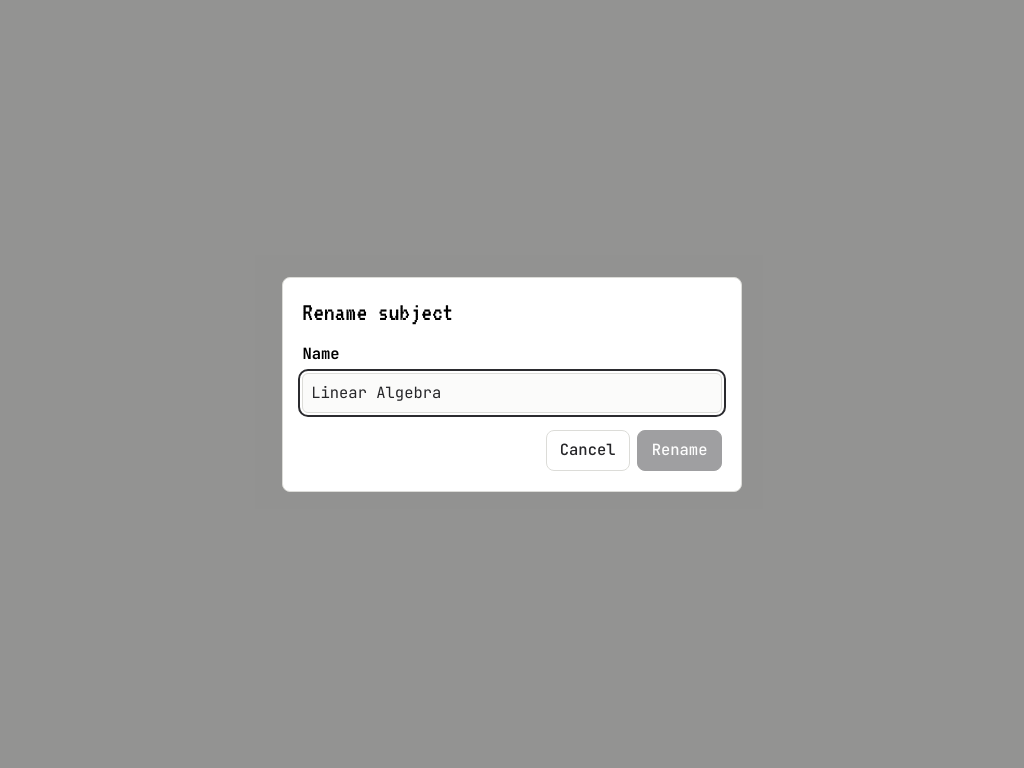
Scenario: PromptDialog › keeps the dialog open and shows the error when onSubmit rejects
Replace the text in the field labelled "Name" with "Other" at (512, 393), box 302,373 -> 722,413
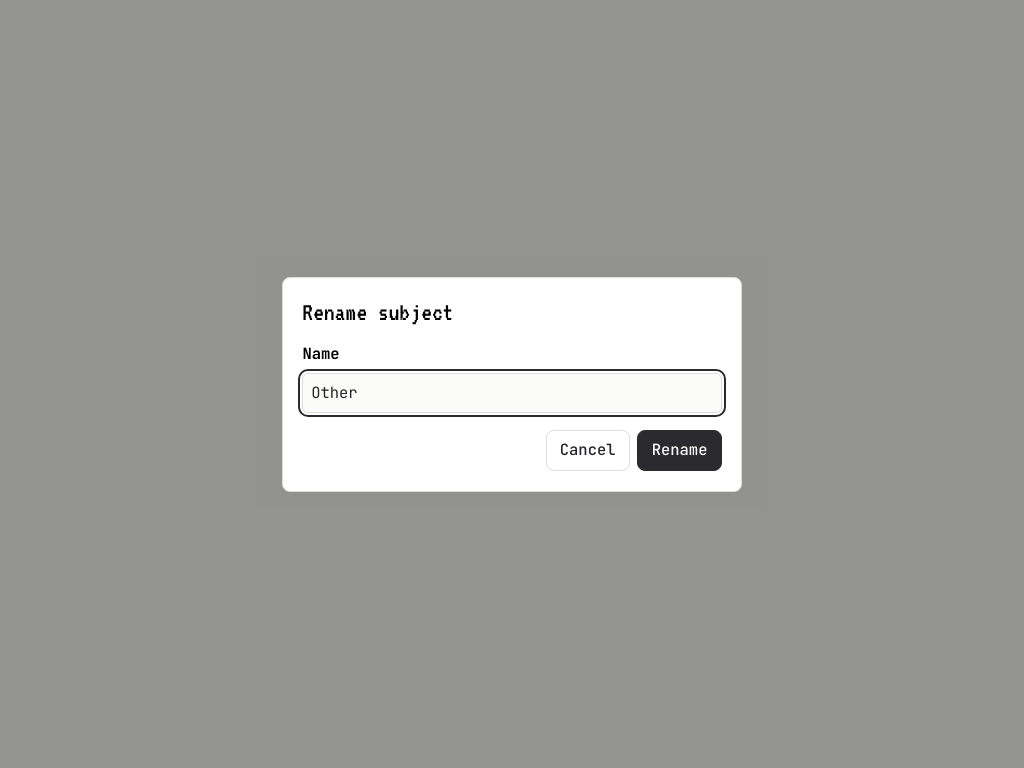
Click the button "Rename" at (680, 451), box 638,430 -> 722,471
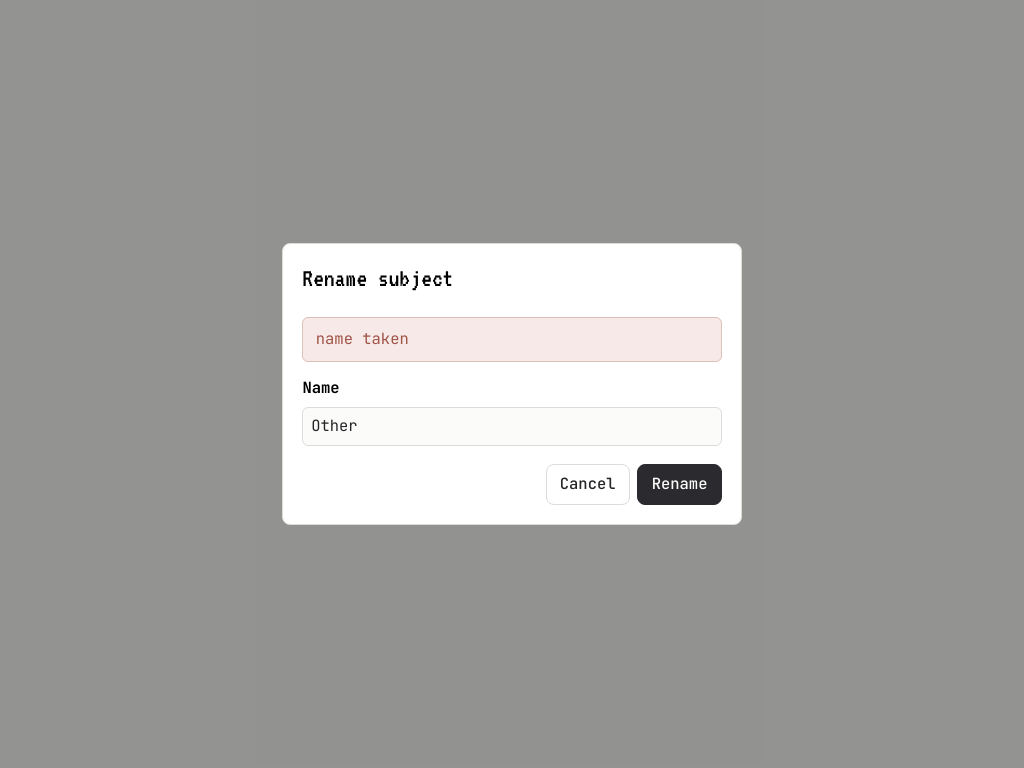
Expected: the dialog is shown, 282,243 -> 742,525
Expected: the text "name taken" is shown, 302,317 -> 722,362
